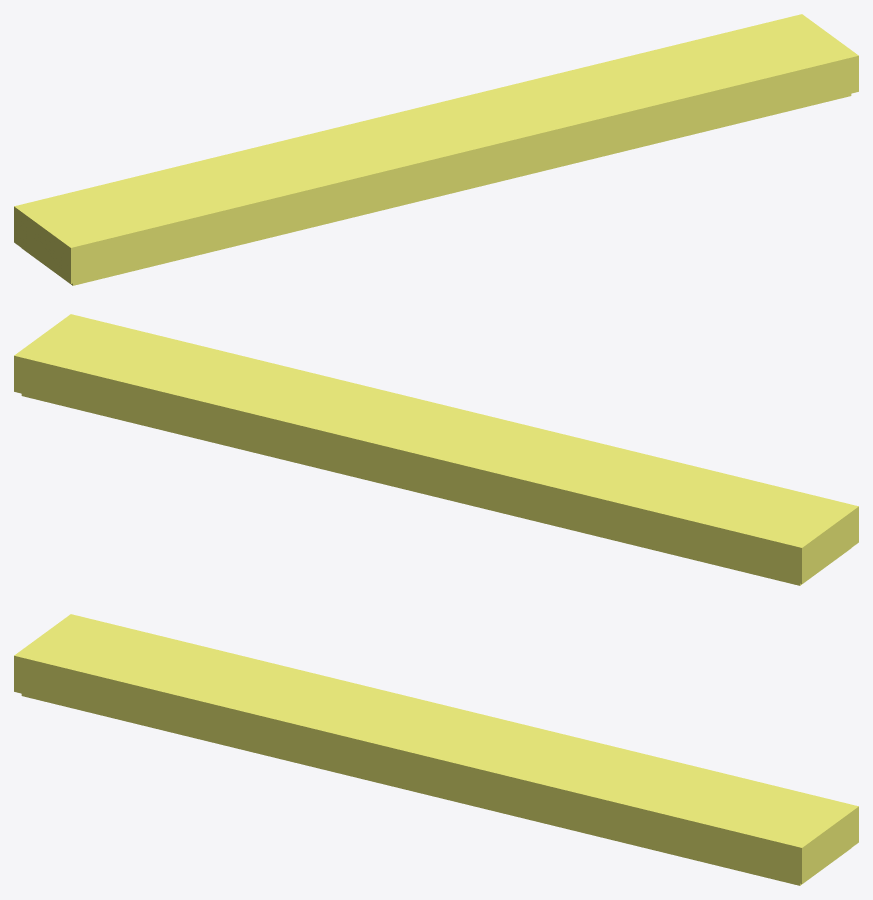
3 views of the same model, one above another, from view 1: azimuth 30°, elevation 25°; view 2: azimuth 150°, elevation 25°; view 3: azimuth 330°, elevation 25° (orthographic).
Visible parts, largest first — view 1: 4162.dat; view 2: 4162.dat; view 3: 4162.dat.
Boxes of the visible parts, x1,y1,x2,y2 form: 4162.dat: (14, 14, 858, 285); 4162.dat: (14, 314, 858, 585); 4162.dat: (14, 614, 858, 885).
Bounding box in the file's own units: 0.064 × 0.0032 × 0.008.
